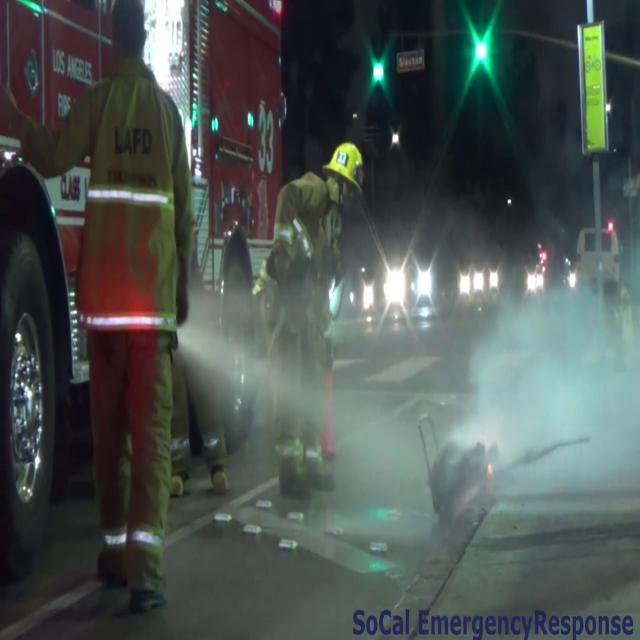Smoke: (458, 240, 640, 538)
